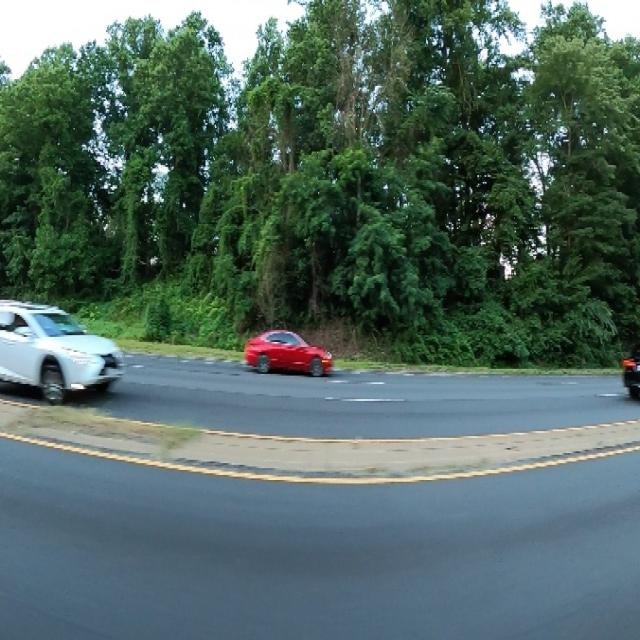cars: (0, 303, 128, 398), (244, 324, 333, 384), (621, 323, 640, 406)
